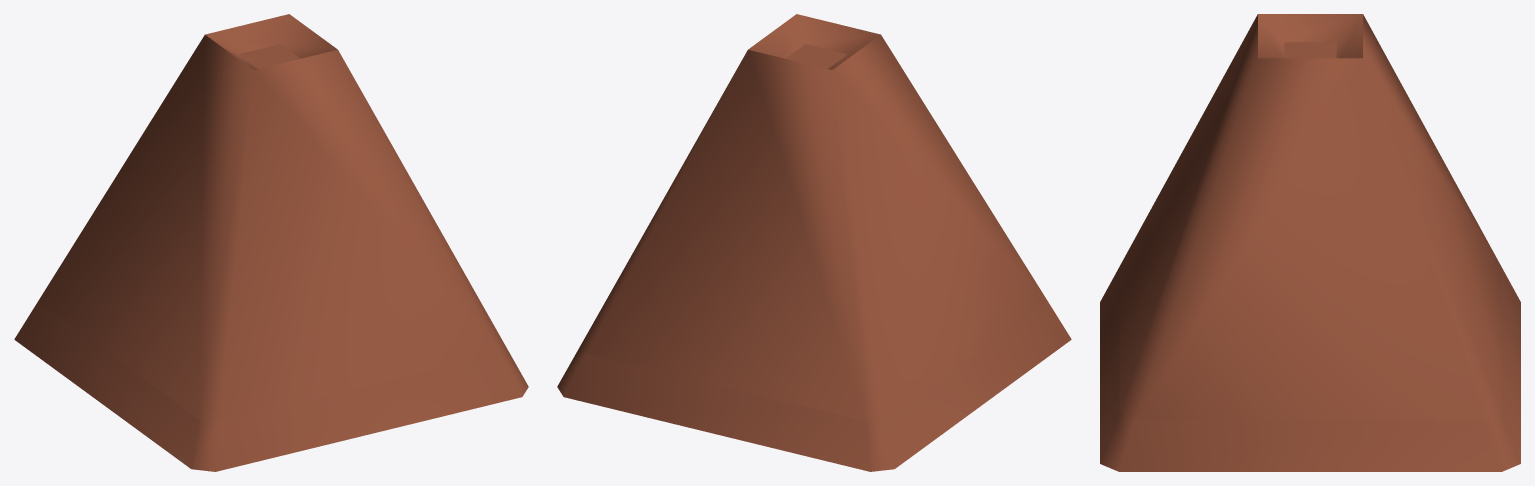
The model's file is roof-high-point.glb.
3 views of the same model, side by side, from view 1: azimuth 30°, elevation 25°; view 2: azimuth 150°, elevation 25°; view 3: azimuth 270°, elevation 25° (orthographic). The views are drawn at different scales.
Parts seen in each view (by area): view 1: roof-high-point; view 2: roof-high-point; view 3: roof-high-point.
Boxes of the visible parts, bbox=[...] form: roof-high-point: bbox=[14, 14, 528, 471]; roof-high-point: bbox=[557, 14, 1071, 471]; roof-high-point: bbox=[1100, 14, 1520, 471].
Size of the model in its own units: 1.1 by 1 by 1.1.
